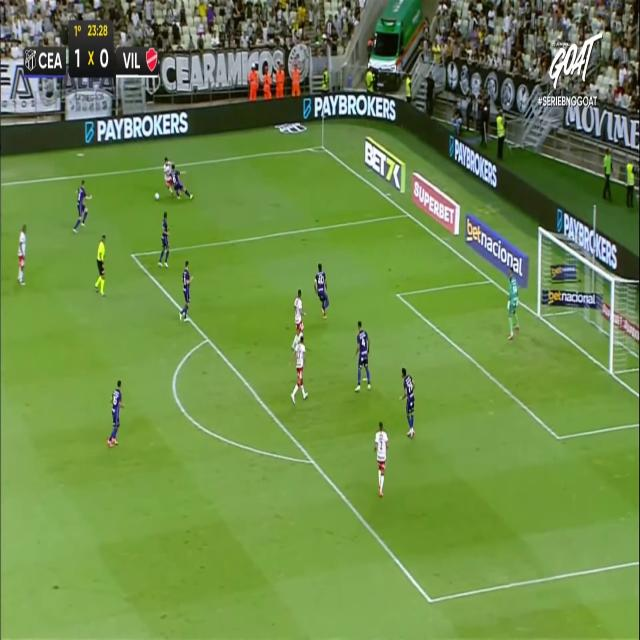ball: (153, 190, 161, 202)
goalkeeper: (507, 267, 520, 339)
player: (354, 319, 371, 390), (291, 332, 308, 403), (107, 379, 124, 447), (373, 420, 388, 496), (399, 367, 415, 438), (167, 160, 194, 200), (291, 286, 307, 351), (72, 179, 91, 233), (313, 262, 329, 319), (180, 259, 192, 321), (157, 211, 170, 267), (17, 223, 26, 284), (163, 156, 176, 197)
referee: (94, 234, 106, 296)
